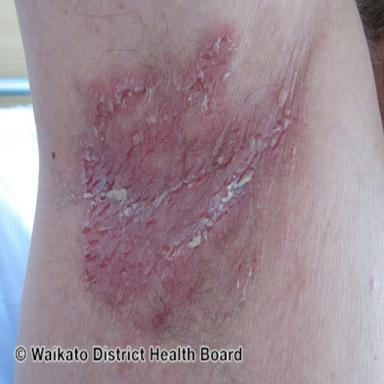Hailey-Hailey-Disease: (80, 33, 301, 329)
